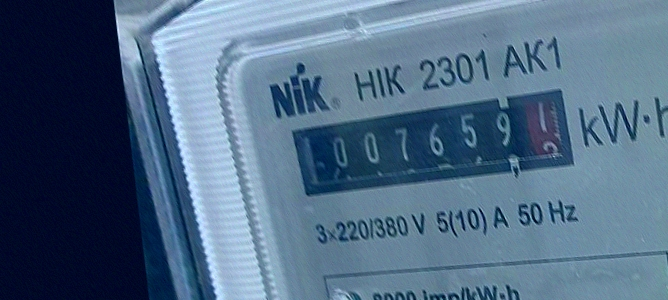0: (360, 127, 385, 169), (329, 132, 354, 172)
1: (531, 97, 554, 136)
5: (457, 110, 483, 152)
6: (423, 118, 450, 161)
7: (391, 123, 417, 164)
9: (493, 108, 518, 150)
screen: (282, 83, 583, 208)
